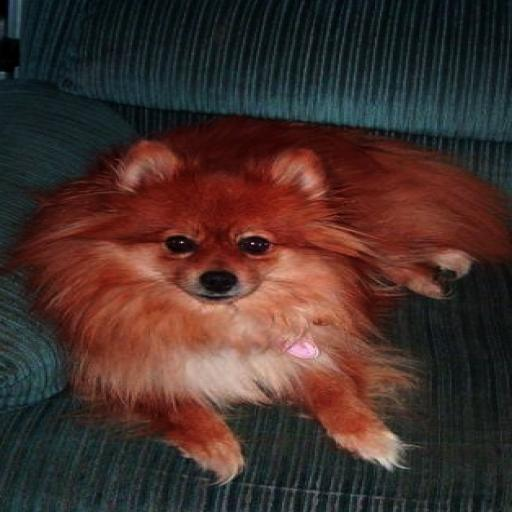dog_face: (92, 141, 332, 300)
